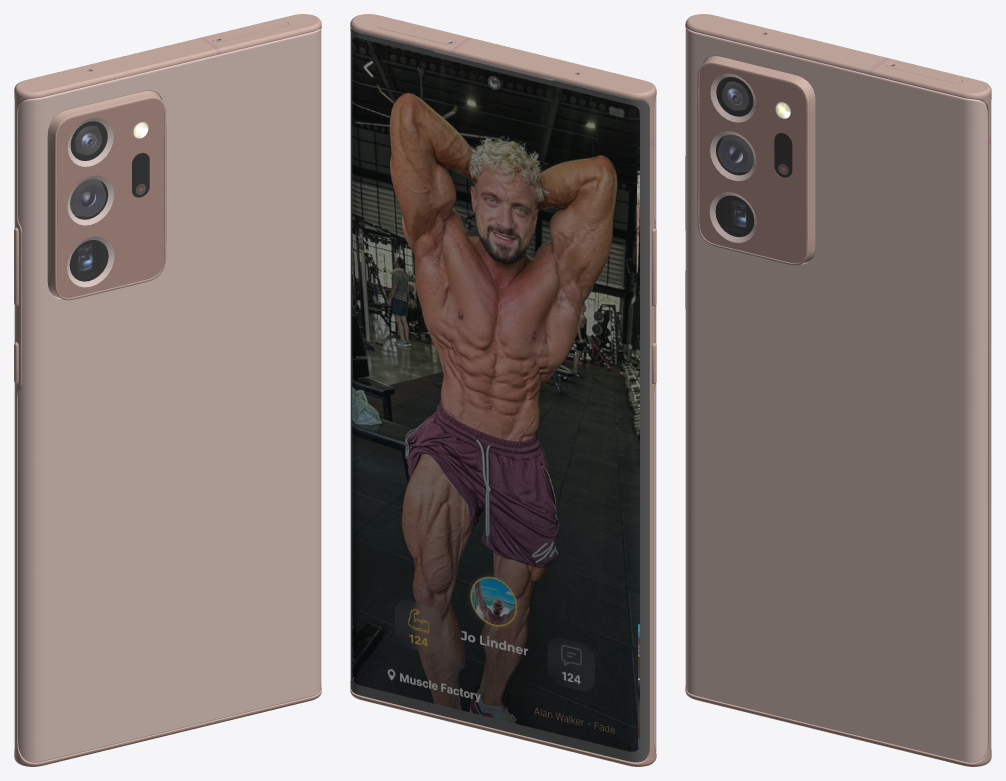
Rendered from samsungFerfi.glb.
3 views of the same model, side by side, from view 1: azimuth 30°, elevation 25°; view 2: azimuth 150°, elevation 25°; view 3: azimuth 330°, elevation 25° (orthographic).
Visible parts, largest first — view 1: Back_Cover_Glass, Big_Cam_Glass, Rearcase, Back_Cam_GlassCover_Black_Panel_B, Cam, Cam_mt2, Cam_mt, Mic; view 2: Display_ActiveArea, Bezel, Rearcase, Back_Cover_Glass; view 3: Back_Cover_Glass, Big_Cam_Glass, Rearcase, Back_Cam_GlassCover_Black_Panel_B, Cam, Cam_mt2, Cam_mt, Mic.
Boxes of the visible parts, left/top/right/bottom form: Back_Cover_Glass: left=18, top=28, right=321, bottom=762; Big_Cam_Glass: left=57, top=100, right=164, bottom=298; Rearcase: left=14, top=14, right=321, bottom=766; Back_Cam_GlassCover_Black_Panel_B: left=57, top=99, right=164, bottom=297; Cam: left=70, top=125, right=105, bottom=271; Cam_mt2: left=67, top=117, right=114, bottom=287; Cam_mt: left=69, top=121, right=108, bottom=281; Mic: left=132, top=153, right=149, bottom=197; Display_ActiveArea: left=352, top=37, right=639, bottom=751; Bezel: left=350, top=29, right=648, bottom=762; Rearcase: left=350, top=14, right=656, bottom=766; Back_Cover_Glass: left=435, top=50, right=656, bottom=751; Back_Cover_Glass: left=685, top=28, right=987, bottom=762; Big_Cam_Glass: left=698, top=65, right=805, bottom=263; Rearcase: left=685, top=14, right=991, bottom=766; Back_Cam_GlassCover_Black_Panel_B: left=699, top=64, right=806, bottom=263; Cam: left=718, top=81, right=753, bottom=227; Cam_mt2: left=709, top=73, right=756, bottom=242; Cam_mt: left=716, top=77, right=754, bottom=236; Mic: left=774, top=133, right=792, bottom=177.
Size of what is drawn, in the model's own units: 0.0777 by 0.1647 by 0.0109.
17 materials, 3 textured.
